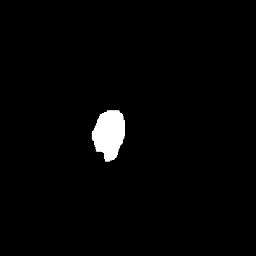mass: (91, 107, 125, 155)
